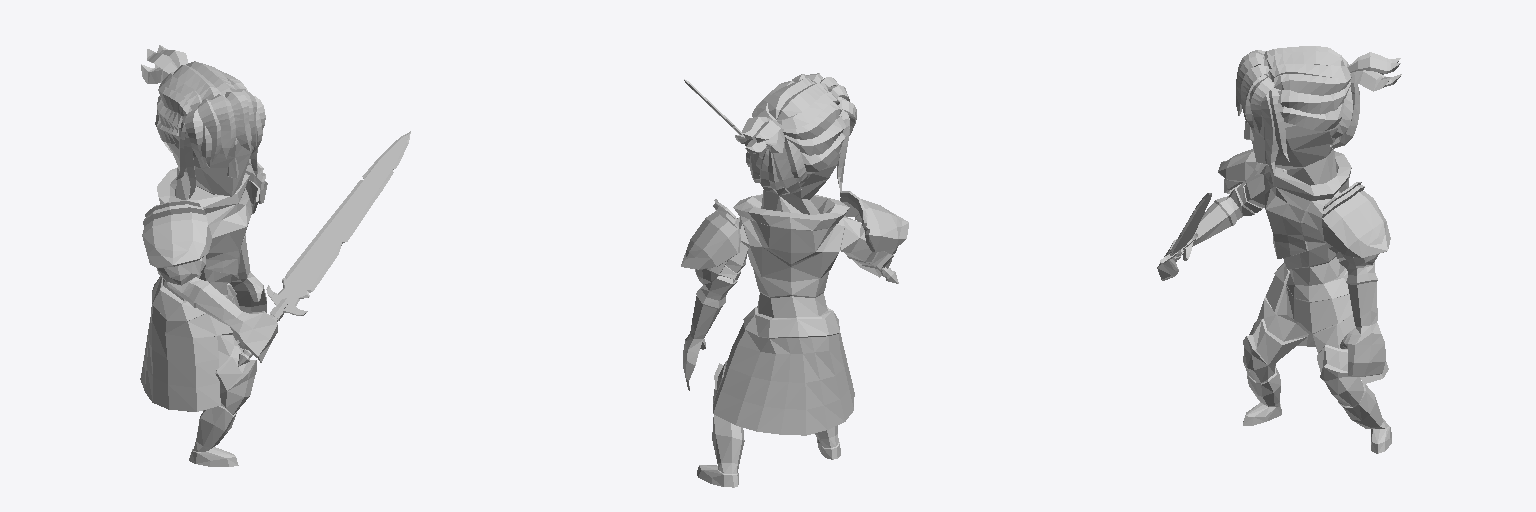
The picture shows the model from 3 angles: view 1: azimuth 30°, elevation 25°; view 2: azimuth 150°, elevation 25°; view 3: azimuth 270°, elevation 25°; orthographic projection.
Visible parts, largest first — view 1: Warrior.002__ncl1_29.005, Face__ncl1_29.002, Warrior_Sword_Cylinder.001, Shoulder.R__ncl1_29.001, Shoulder.L__ncl1_29.000; view 2: Warrior.002__ncl1_29.005, Face__ncl1_29.002, Shoulder.L__ncl1_29.000, Shoulder.R__ncl1_29.001; view 3: Warrior.002__ncl1_29.005, Face__ncl1_29.002, Shoulder.L__ncl1_29.000, Shoulder.R__ncl1_29.001, Warrior_Sword_Cylinder.001.
Part boxes in pixels (bbox=[...]): Warrior.002__ncl1_29.005: bbox=[140, 116, 277, 466]; Face__ncl1_29.002: bbox=[141, 45, 265, 198]; Warrior_Sword_Cylinder.001: bbox=[238, 131, 410, 366]; Shoulder.R__ncl1_29.001: bbox=[142, 200, 212, 285]; Shoulder.L__ncl1_29.000: bbox=[245, 159, 267, 214]; Warrior.002__ncl1_29.005: bbox=[683, 117, 893, 487]; Face__ncl1_29.002: bbox=[735, 73, 856, 194]; Shoulder.L__ncl1_29.000: bbox=[681, 199, 740, 284]; Shoulder.R__ncl1_29.001: bbox=[840, 191, 908, 254]; Warrior.002__ncl1_29.005: bbox=[1157, 112, 1391, 453]; Face__ncl1_29.002: bbox=[1236, 46, 1401, 175]; Shoulder.L__ncl1_29.000: bbox=[1322, 182, 1390, 265]; Shoulder.R__ncl1_29.001: bbox=[1218, 149, 1265, 193]; Warrior_Sword_Cylinder.001: bbox=[1160, 193, 1211, 263].
Size of the model in its own units: 1.87 by 2.8 by 1.66.